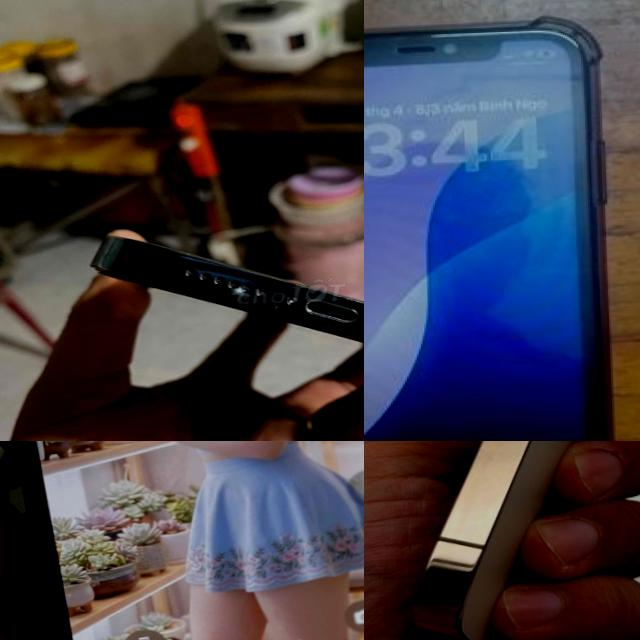gen_11: (364, 8, 623, 441), (0, 441, 364, 640)
gen_12_13: (88, 190, 364, 432)
gen_14: (412, 441, 573, 640)
